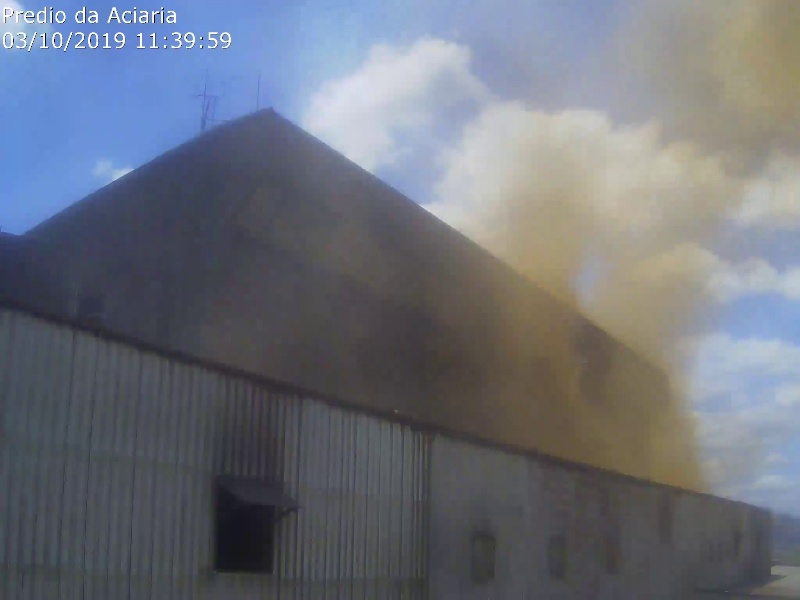bom: (2, 4, 287, 153)
pessimo: (471, 196, 747, 500), (470, 2, 800, 241)
